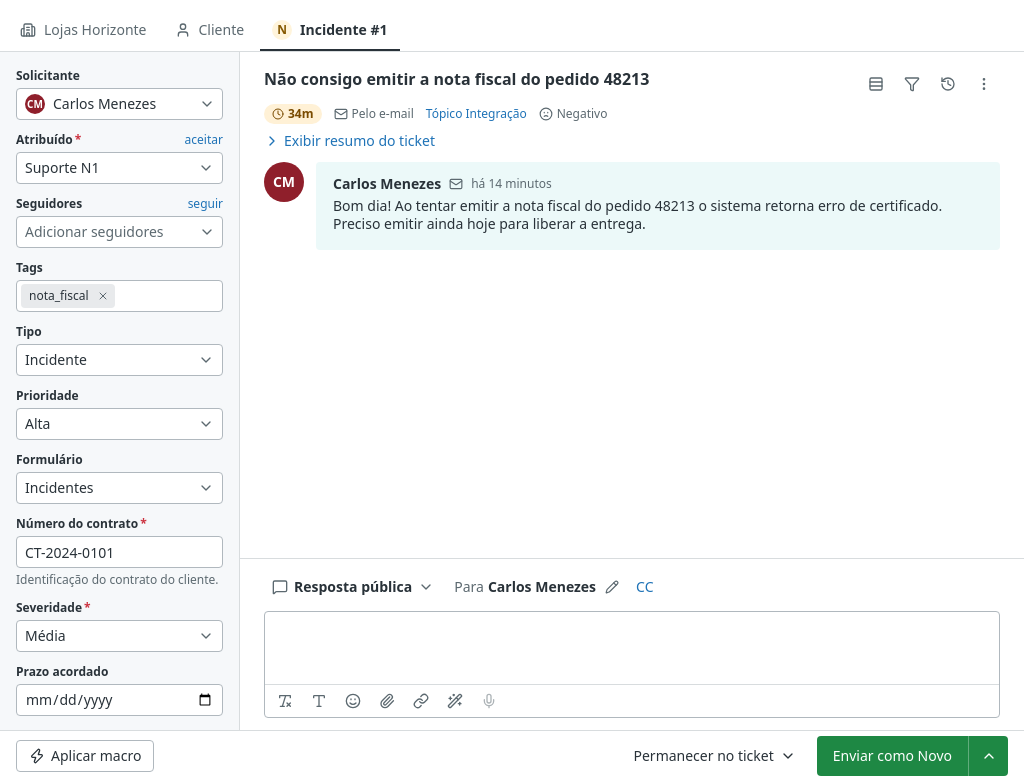
Test: resumo de IA na conversa › só gera ao clicar; mostra o texto, o aviso de privacidade e "truncado"
The width and height of the screenshot is (1024, 780).
Click the button "Exibir resumo do ticket" at [349, 141], box [264, 132, 435, 150]
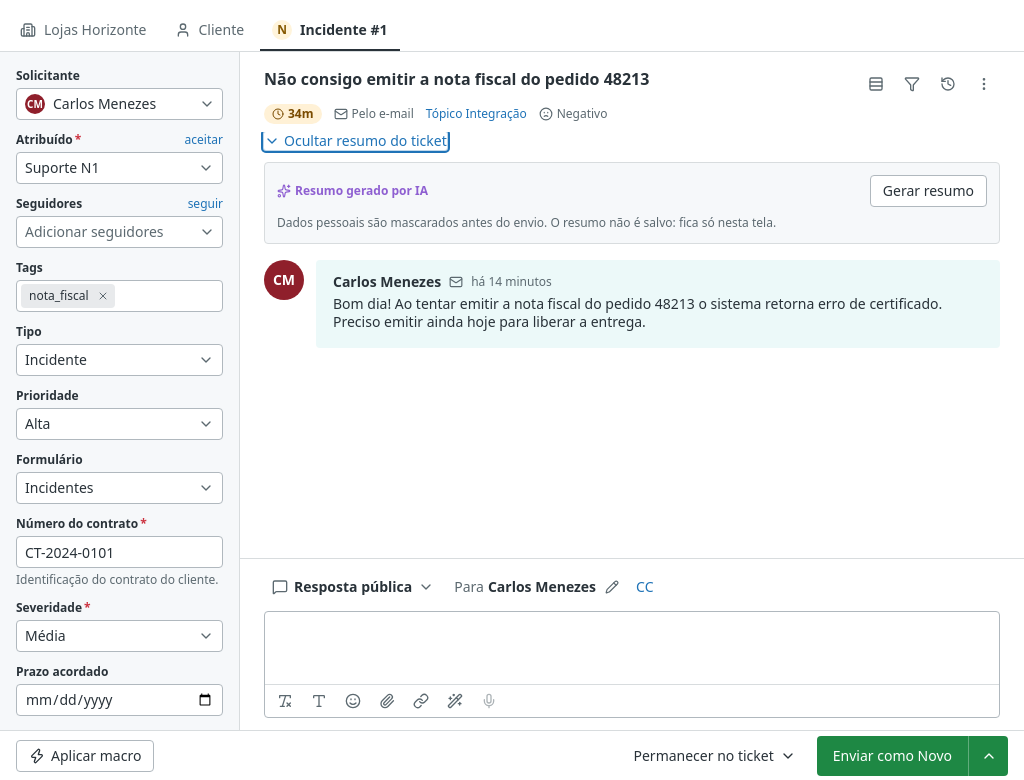
Expected: the text "Dados pessoais são mascarados antes do envio" is shown, [277, 214, 776, 231]
Click the button "Gerar resumo" at [928, 191], box [870, 175, 987, 207]
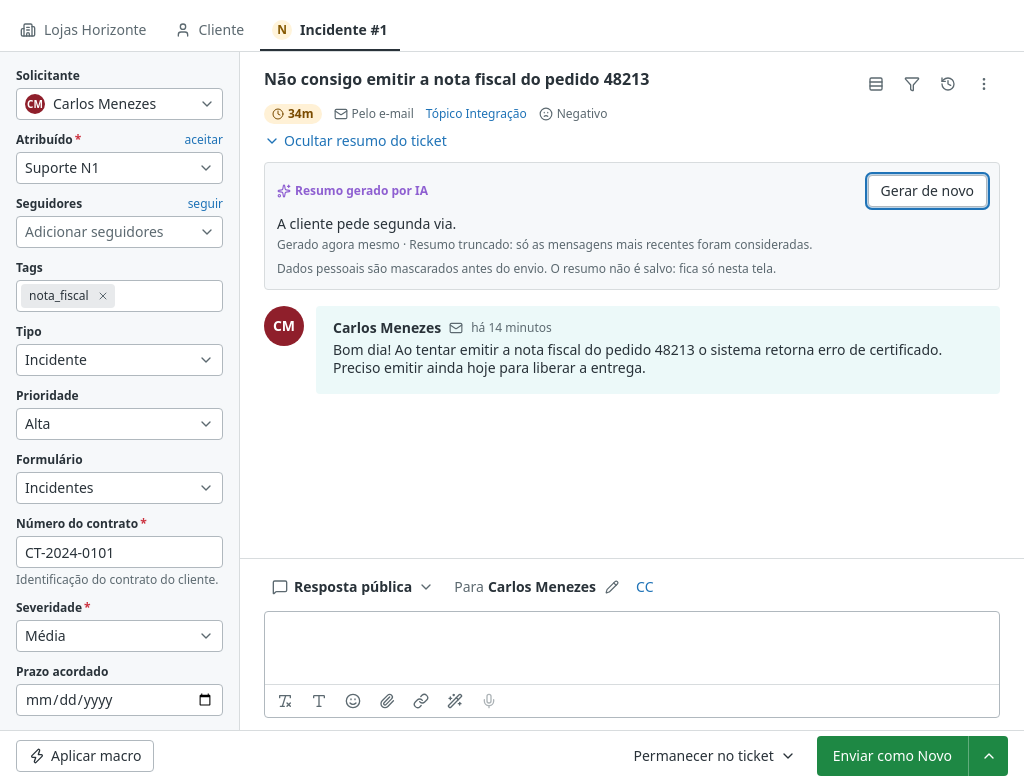
Expected: the text "A cliente pede segunda via." is shown, [277, 214, 456, 233]
Expected: the text "Resumo truncado" is shown, [400, 236, 812, 253]
Expected: the button "Gerar de novo" is shown, [868, 175, 987, 207]
